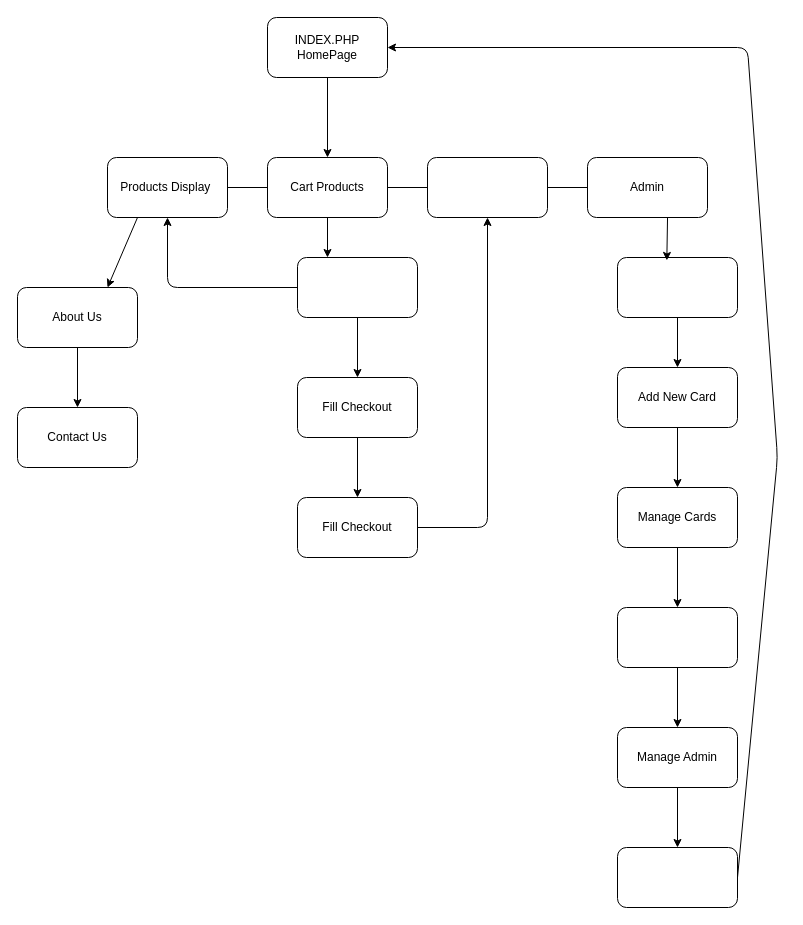
The diagram is 803 pixels wide and 925 high, and some of its shapes have lost their labels. The centre of each missing label's shape, as x and y in pixels:
"Log In" belongs at point (677, 287).
"Log Out" belongs at point (677, 877).
"Manage Orders" belongs at point (677, 637).
"Order History" belongs at point (487, 187).
"Shopping Cart" belongs at point (357, 287).
